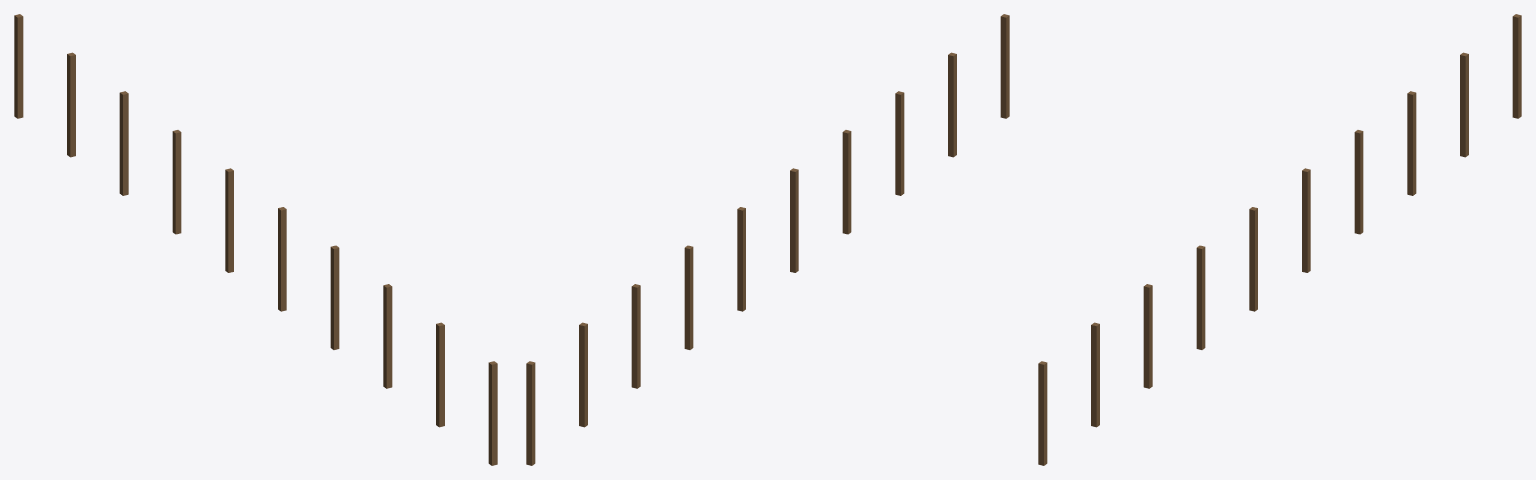
File: 1276-Buildings-shell-pieces-roof-terrace-emitTerrace-100-triangles-0-14-x-2-40-x-20-5.glb
3 renders of one model, left to right at view 1: azimuth 30°, elevation 25°; view 2: azimuth 150°, elevation 25°; view 3: azimuth 330°, elevation 25°, orthographic.
Visible parts, largest first — view 1: emitTerrace; view 2: emitTerrace; view 3: emitTerrace.
Boxes of the visible parts, <box> form: emitTerrace: <box>14,14,497,465</box>; emitTerrace: <box>526,14,1009,465</box>; emitTerrace: <box>1038,14,1521,465</box>.
Bounding box in the file's own units: 0.14 × 2.4 × 20.54.
